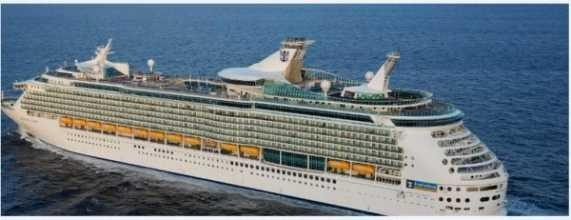youlun: (1, 36, 511, 215)
